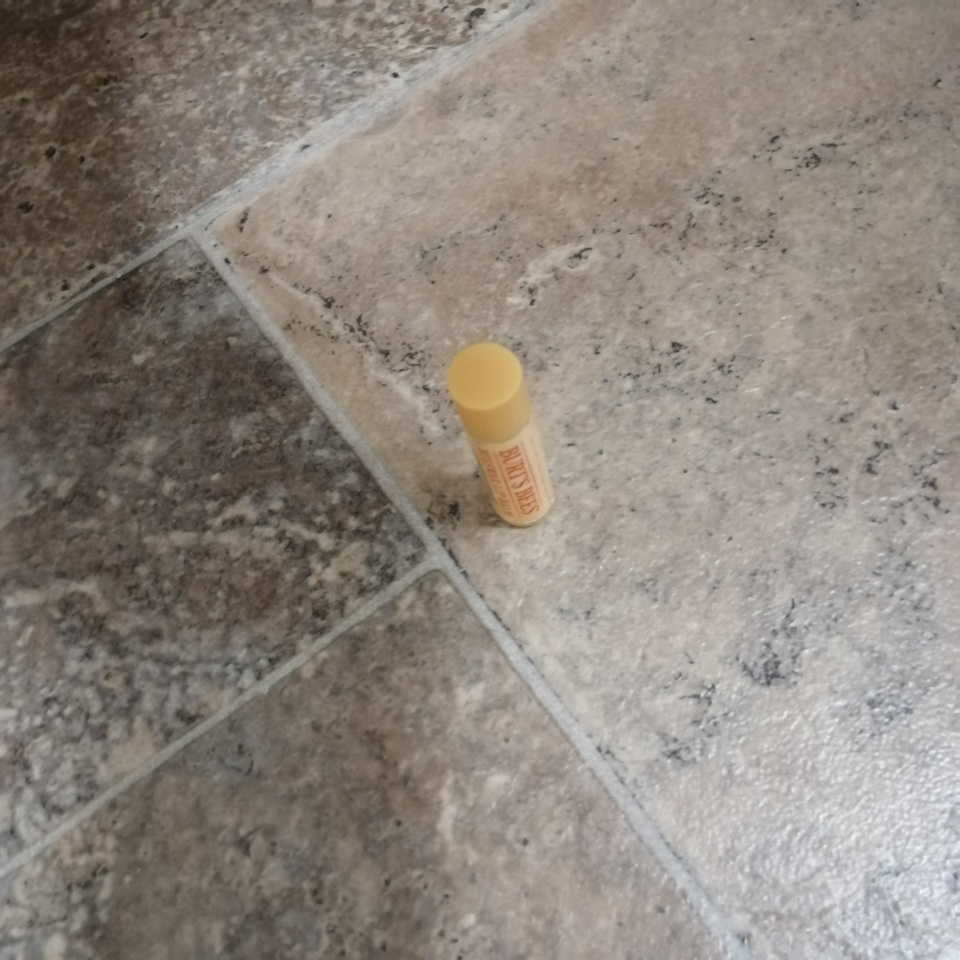chapstick: (446, 342, 560, 529)
